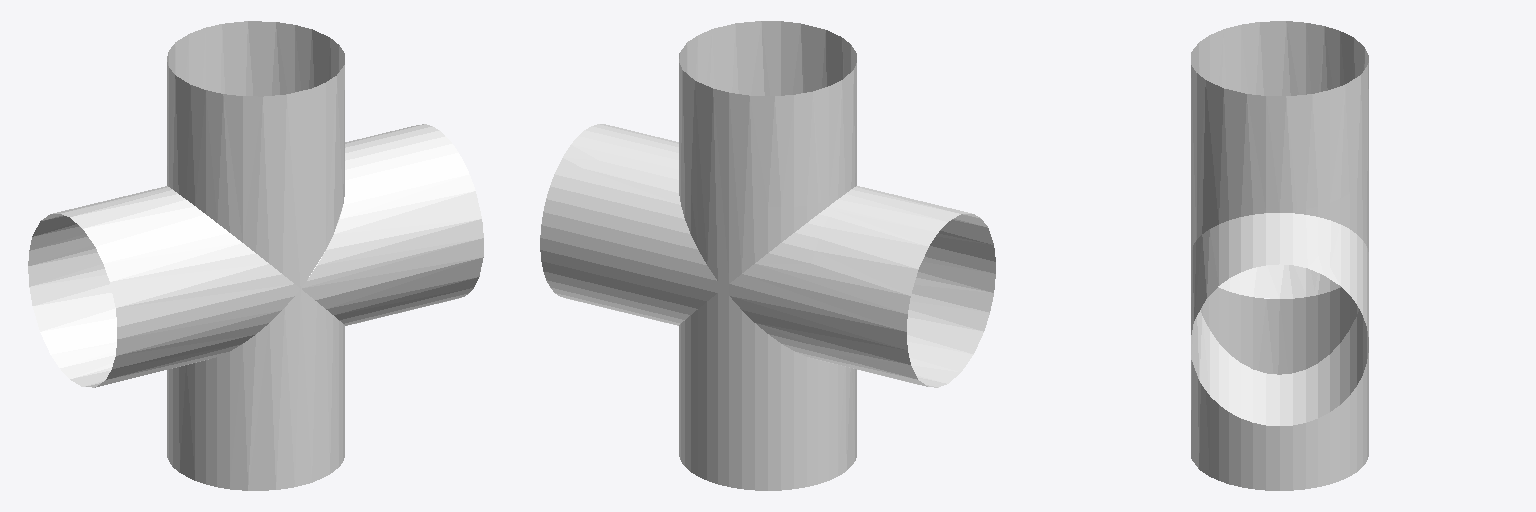
3 views of the same model, side by side, from view 1: azimuth 30°, elevation 25°; view 2: azimuth 150°, elevation 25°; view 3: azimuth 270°, elevation 25° (orthographic).
Visible parts, largest first — view 1: innerChain; view 2: innerChain; view 3: innerChain.
Part boxes in pixels (bbox=[...]): innerChain: bbox=[28, 21, 483, 490]; innerChain: bbox=[540, 21, 995, 490]; innerChain: bbox=[1191, 21, 1368, 490].
Size of the model in its own units: 4.5 by 4.63 by 1.9.